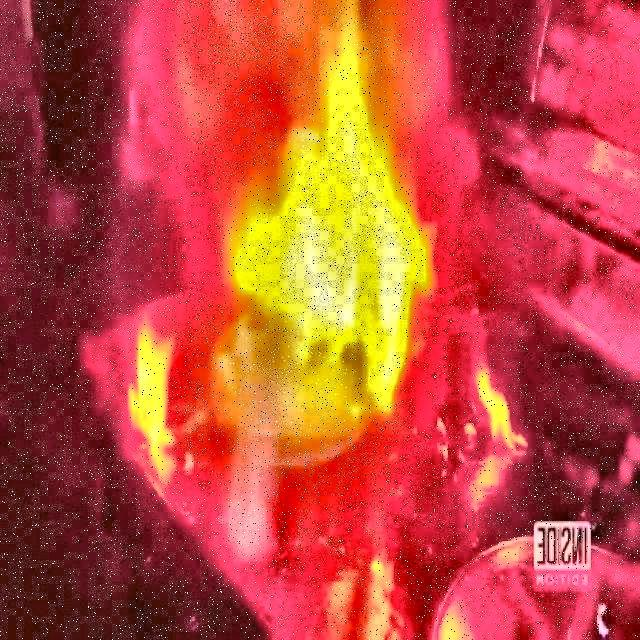fire: (170, 17, 457, 453)
